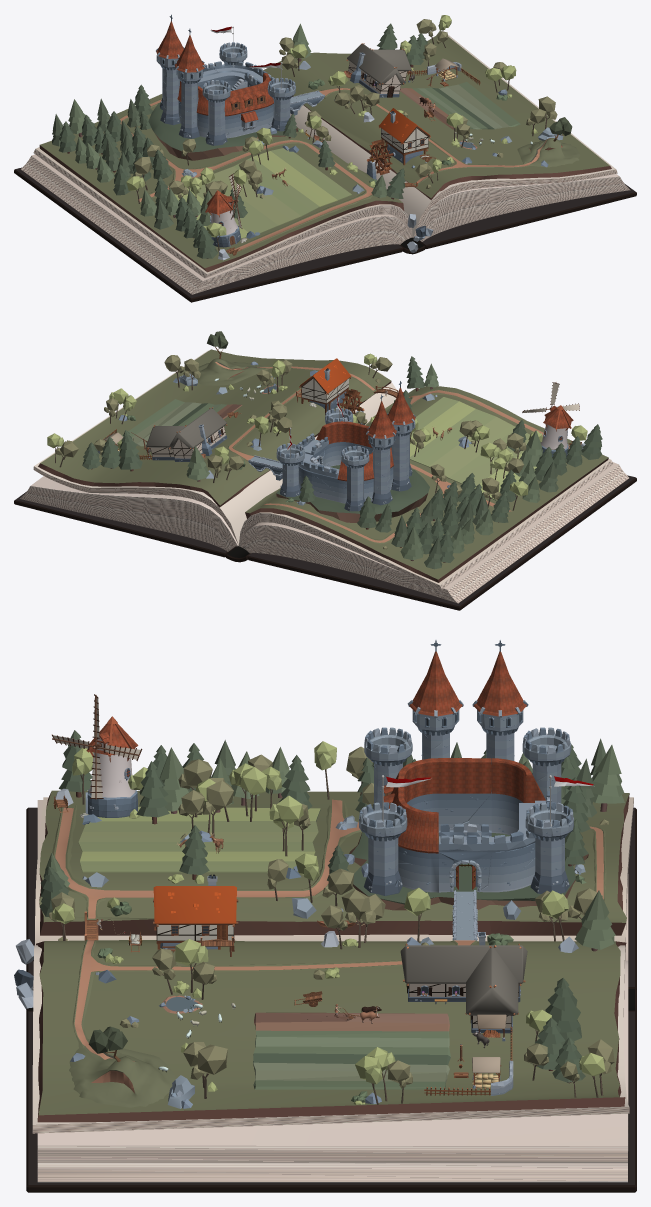
3 renders of one model, top to bottom at view 1: azimuth 30°, elevation 25°; view 2: azimuth 150°, elevation 25°; view 3: azimuth 270°, elevation 25°, orthographic. The views are drawn at different scales.
Parts seen in each view (by area): view 1: Scene, Mill-water-wheel; view 2: Scene; view 3: Scene, Mill-wind-wheel.
Boxes of the visible parts, left/top/right/bottom form: Scene: left=14, top=14, right=636, bottom=302; Mill-water-wheel: left=367, top=139, right=393, bottom=175; Scene: left=14, top=331, right=636, bottom=610; Scene: left=14, top=640, right=636, bottom=1192; Mill-wind-wheel: left=51, top=694, right=142, bottom=799.
Bounding box in the file's own units: 10307 × 3656 × 7232.
